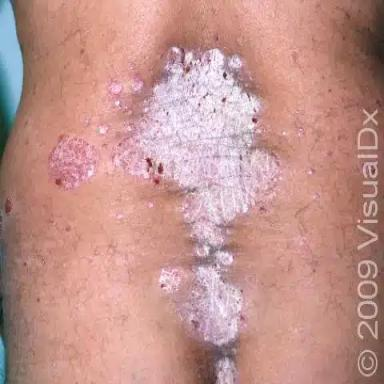Psoriasis: (113, 41, 285, 383), (49, 135, 99, 189), (125, 76, 143, 95), (109, 81, 122, 96), (96, 124, 109, 137), (113, 98, 121, 108), (115, 212, 124, 220), (147, 200, 154, 208)
